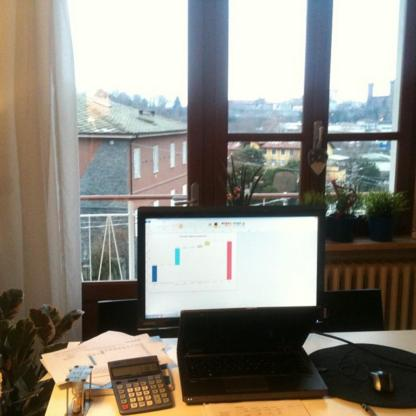board: (176, 305, 330, 404)
